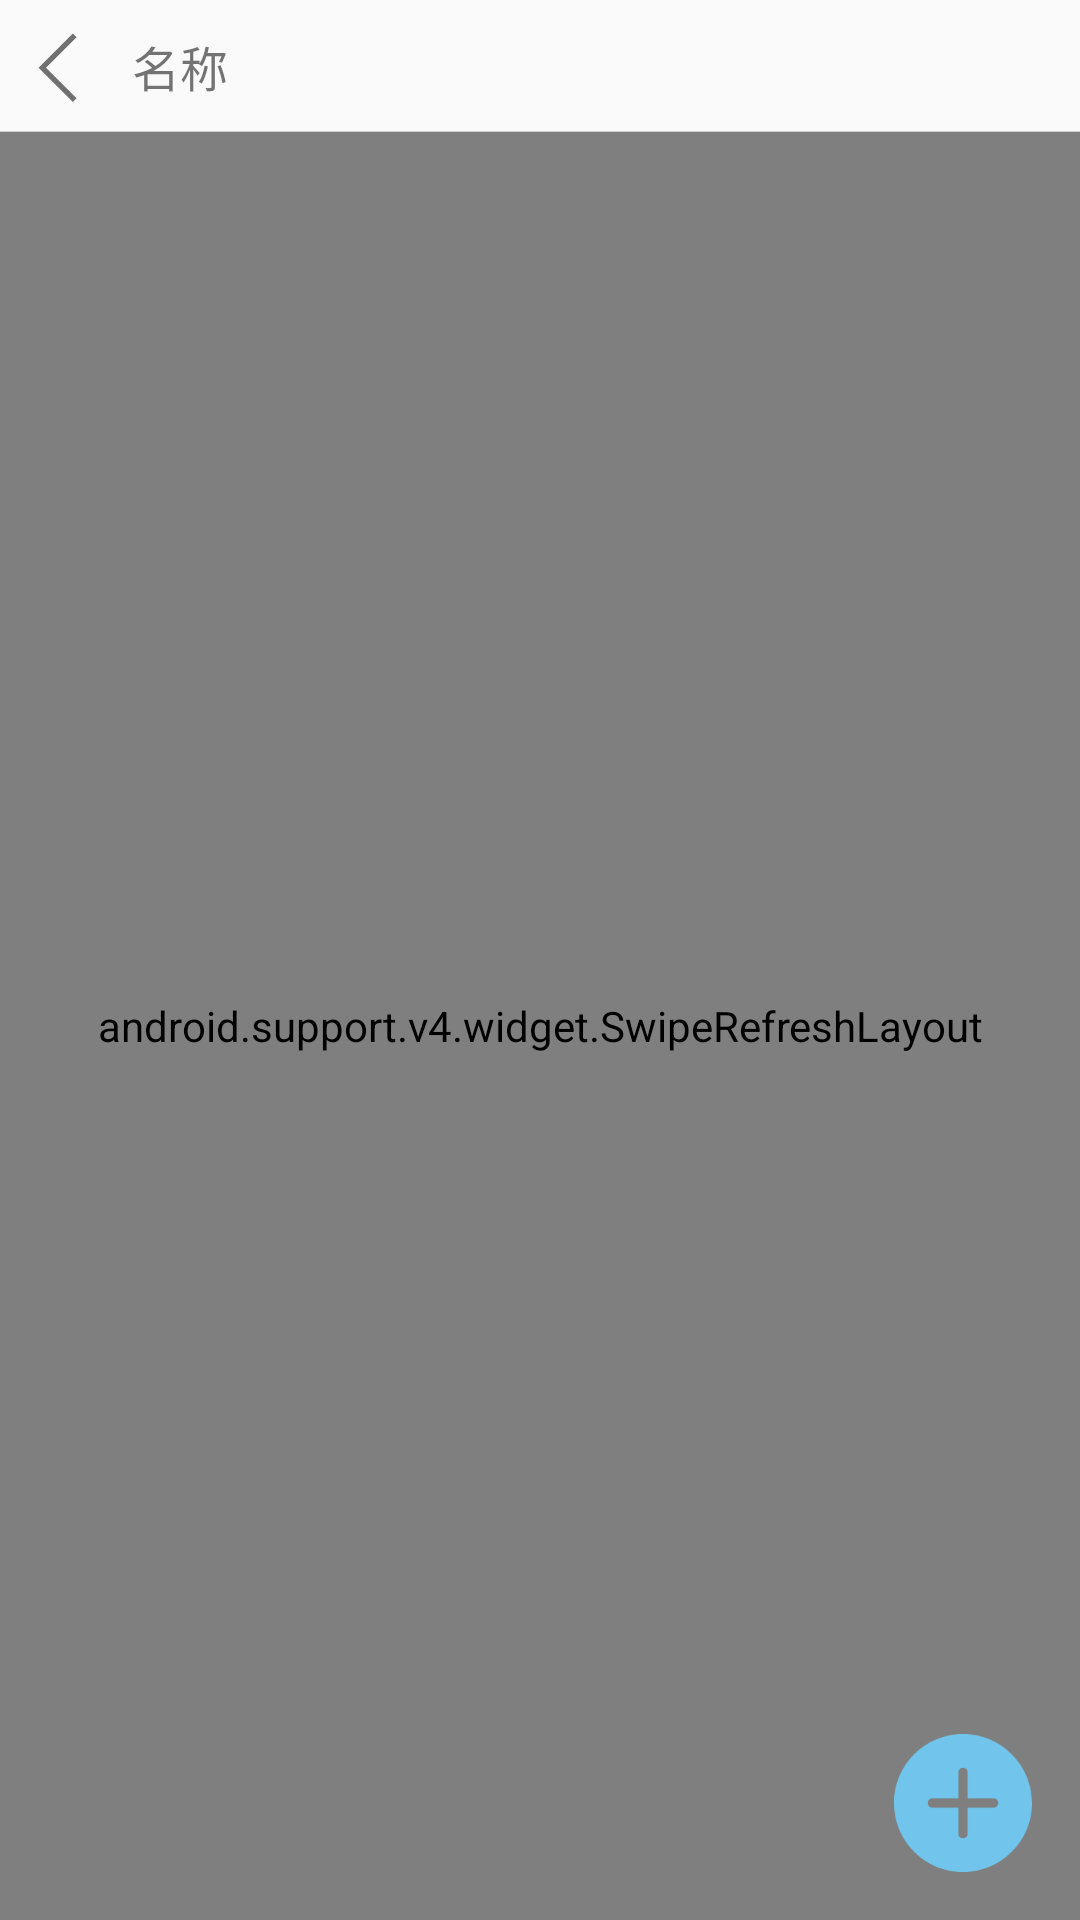

Icons on this 1080 x 1920 Android screen, each with the point to tap as (x=x, y=y):
add: (x=963, y=1803)
back: (x=66, y=66)
